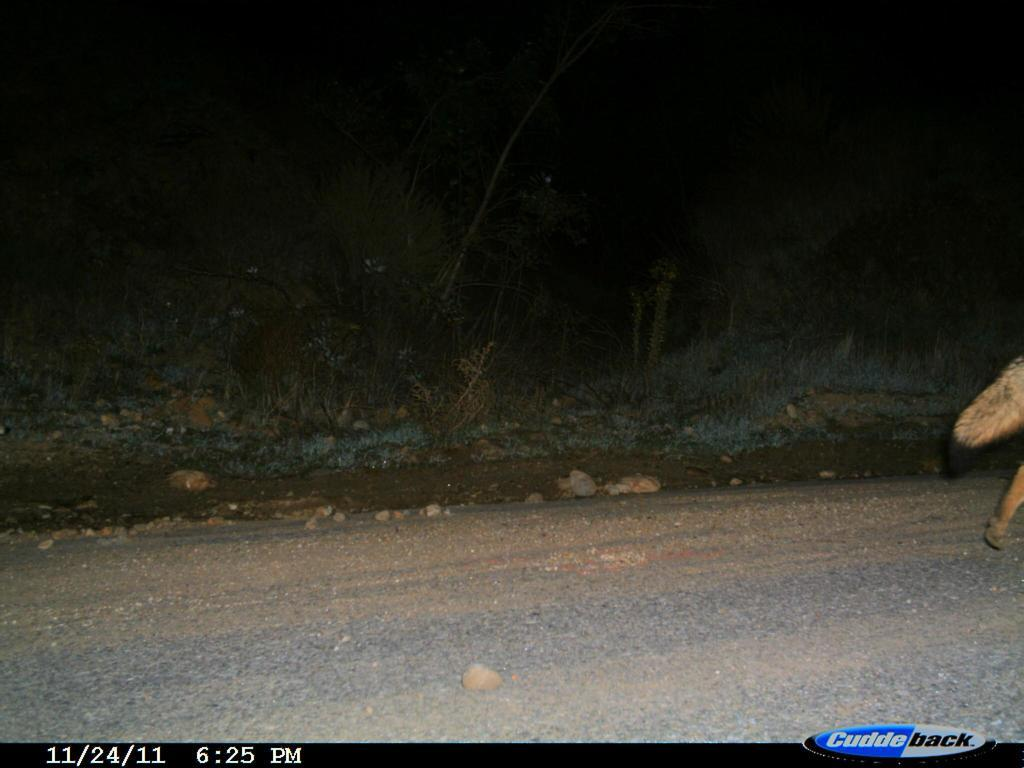coyote: (941, 338, 1023, 571)
